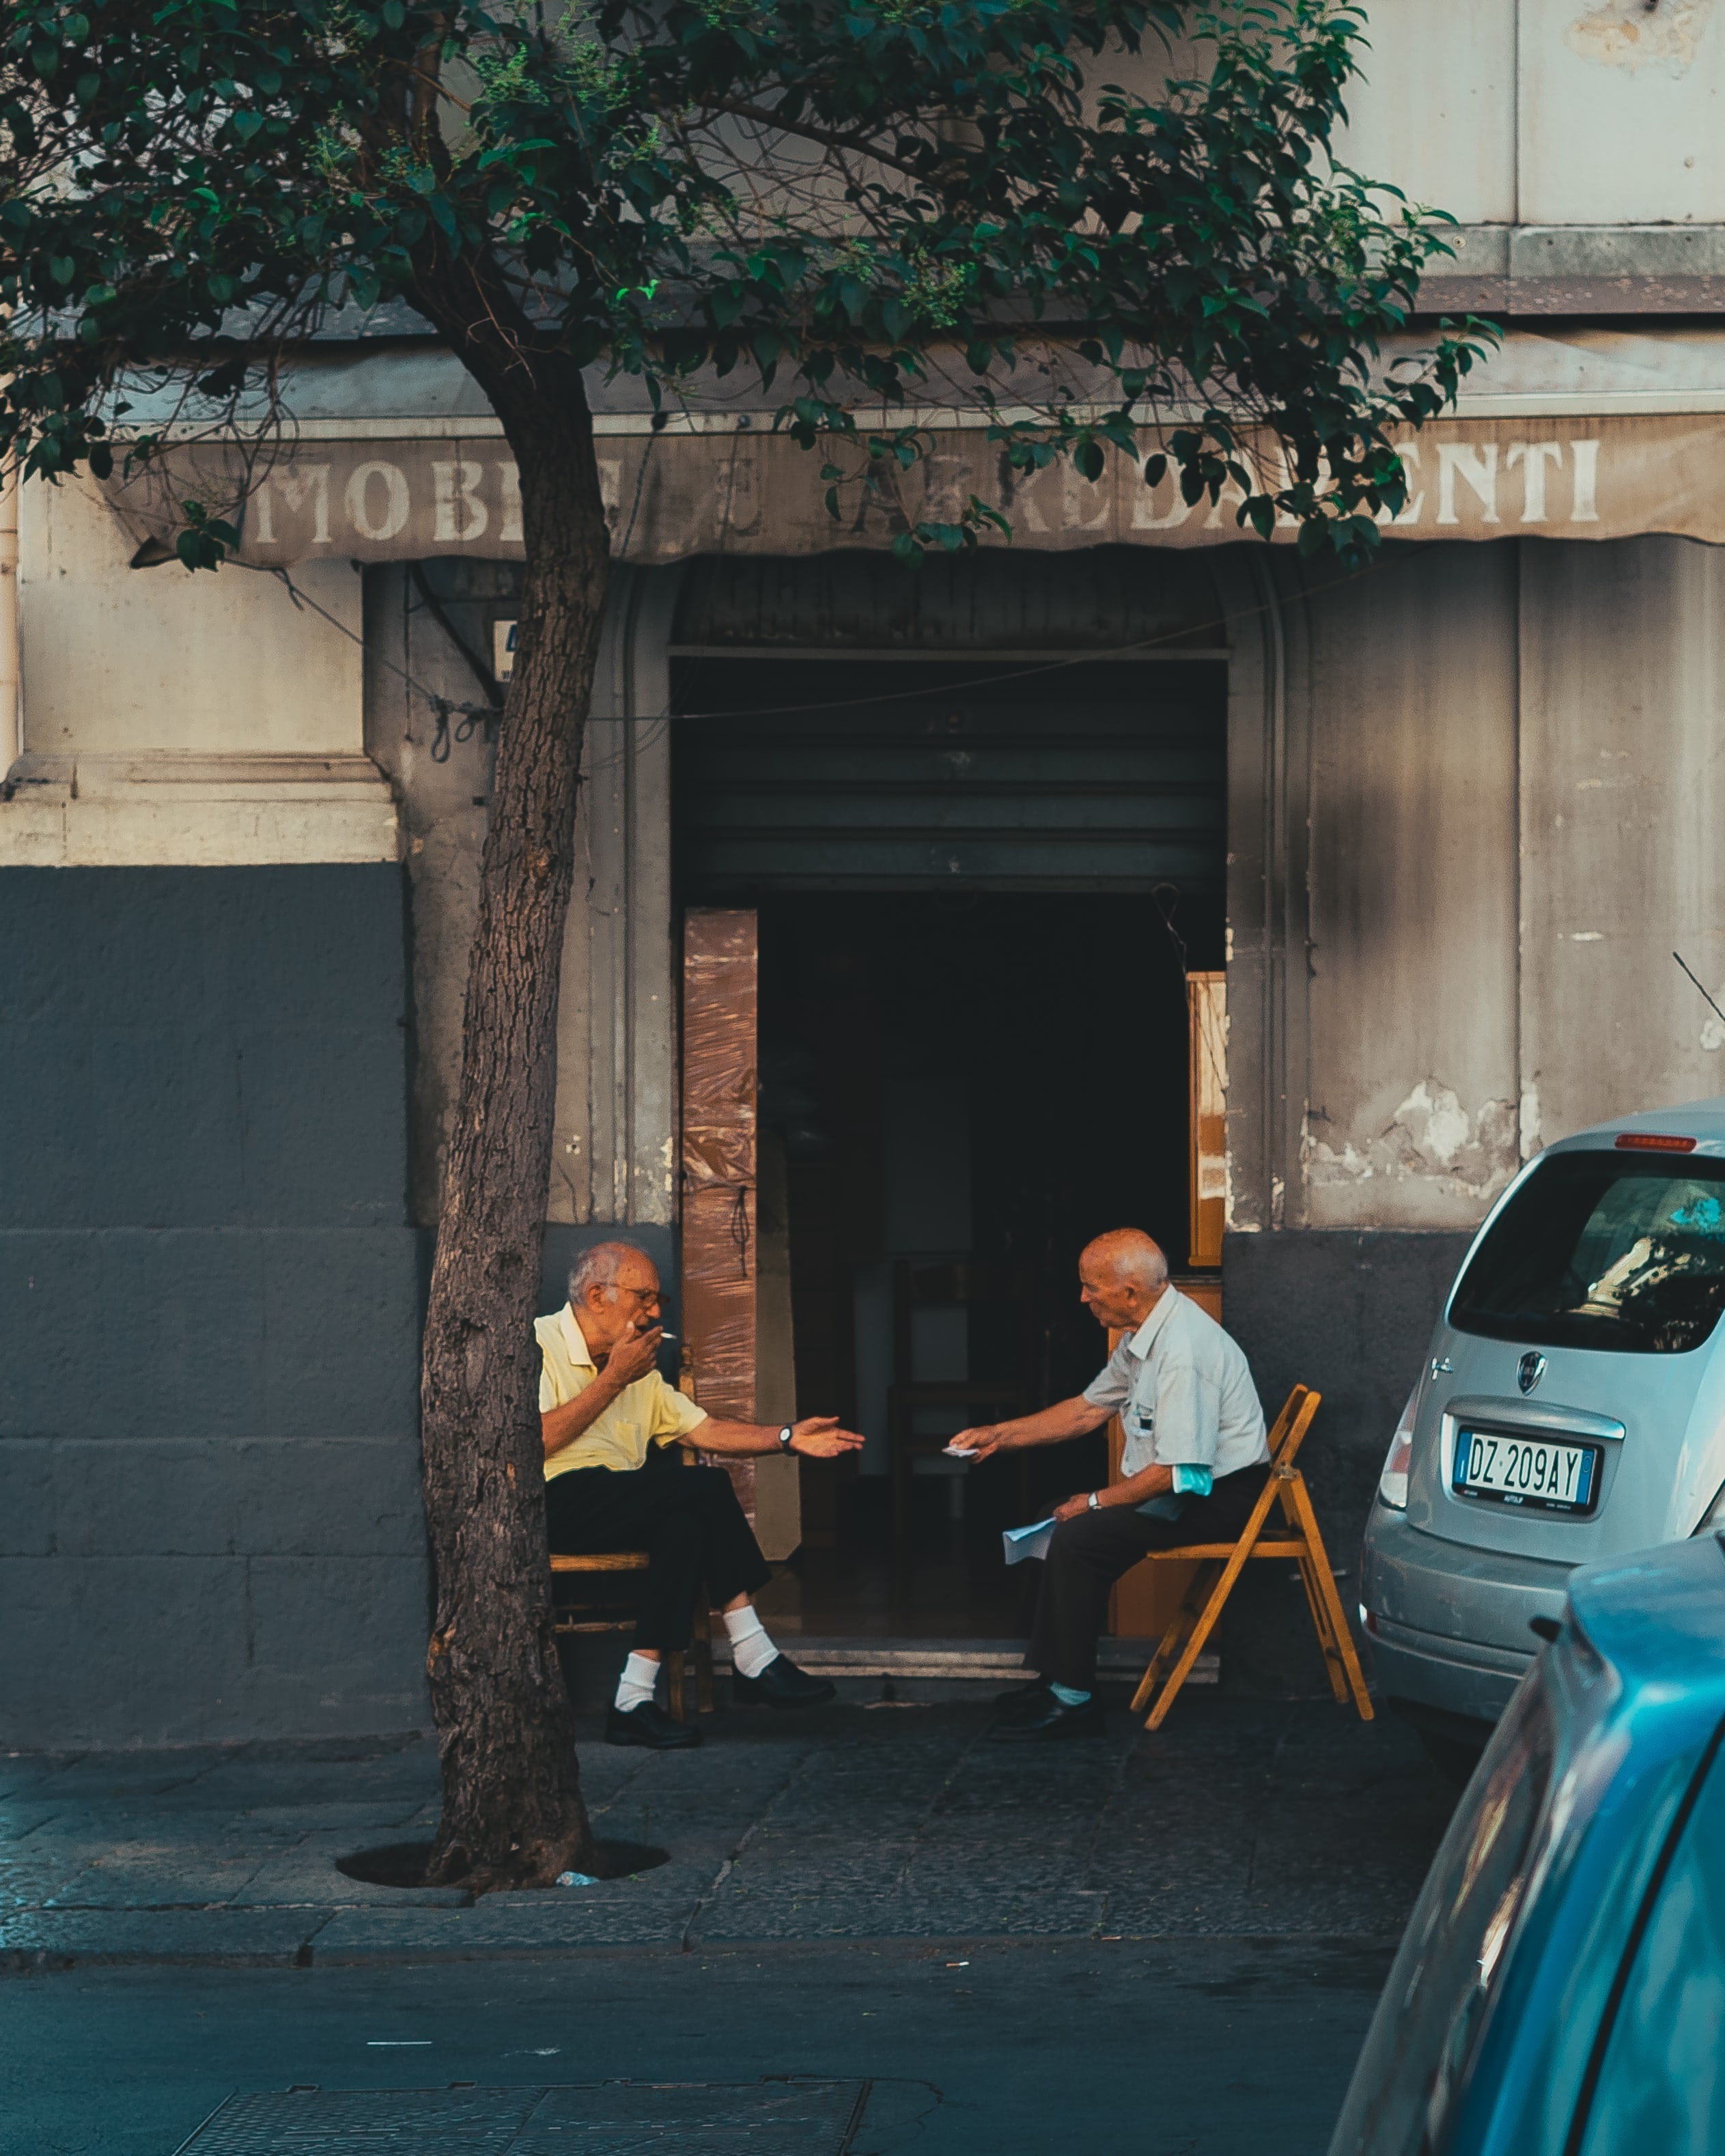plaka: (1450, 1424, 1601, 1510)
